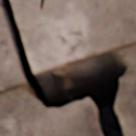brick: (12, 0, 135, 73), (0, 10, 25, 92)
broken_brick: (0, 100, 100, 135), (116, 64, 135, 135)
crack: (0, 0, 133, 135), (40, 0, 45, 11)
